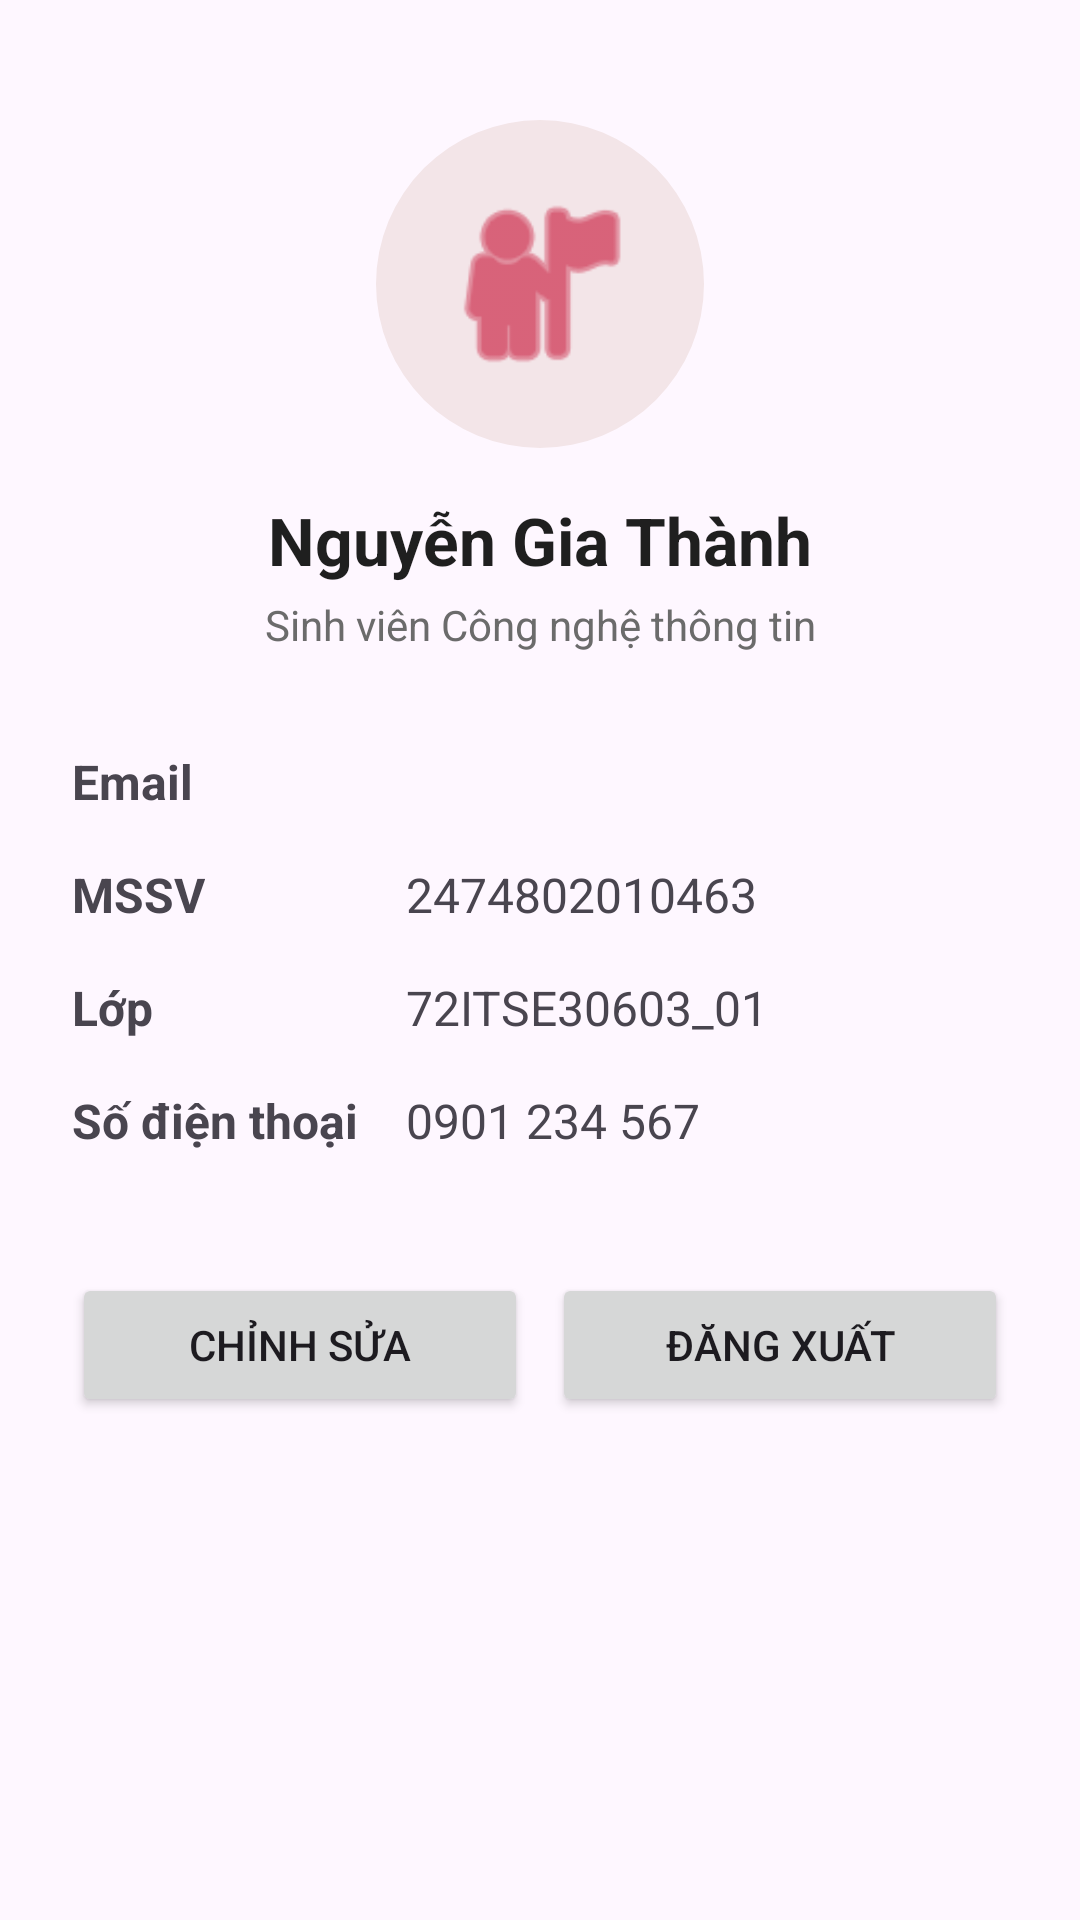

Icons on this 1080×1920 Android screen, each with its box as detection(x1, y1, x2, y2):
Ảnh đại diện: detection(463, 205, 621, 363)
